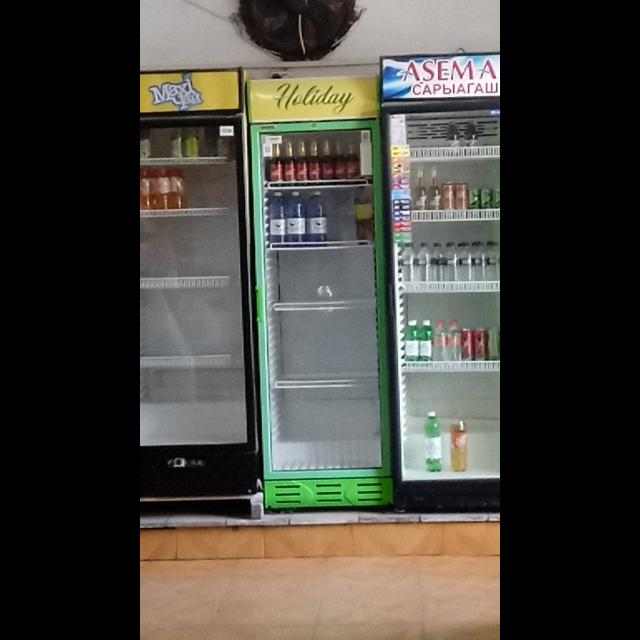Cooling-Display: (245, 75, 393, 508)
